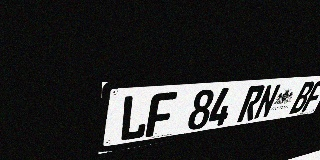4: (206, 87, 237, 128)
8: (186, 89, 217, 131)
B: (289, 81, 316, 114)
F: (145, 92, 178, 138), (301, 80, 320, 112)
L: (118, 94, 151, 142)
N: (253, 84, 282, 120)
R: (237, 85, 266, 123)
